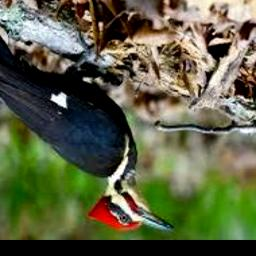Woodpecker: (0, 0, 174, 231)
